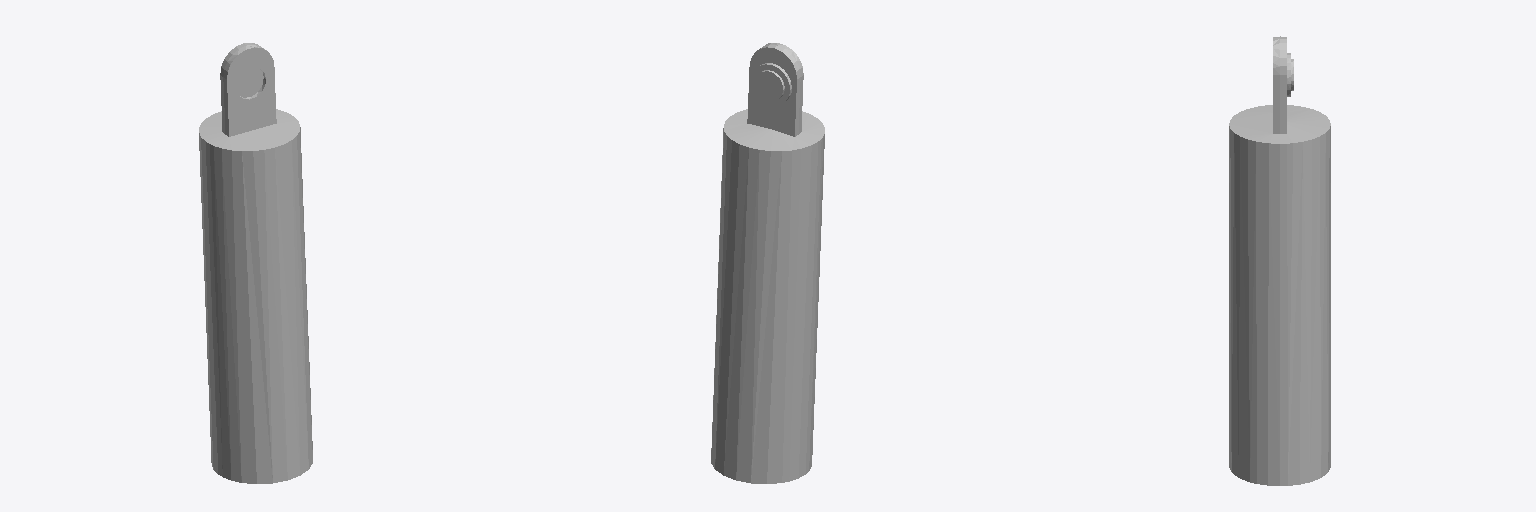
The model's file is irb760_450_318_balance_a_cad_00_body1.obj.
The picture shows the model from 3 angles: view 1: azimuth 30°, elevation 25°; view 2: azimuth 150°, elevation 25°; view 3: azimuth 270°, elevation 25°; orthographic projection.
Visible parts, largest first — view 1: 0; view 2: 0; view 3: 0.
Part boxes in pixels (x1,y1,x2,y2): 0: (199,43,312,483); 0: (711,43,824,483); 0: (1229,36,1330,485).
Size of the model in its own units: 252 by 1014 by 220.